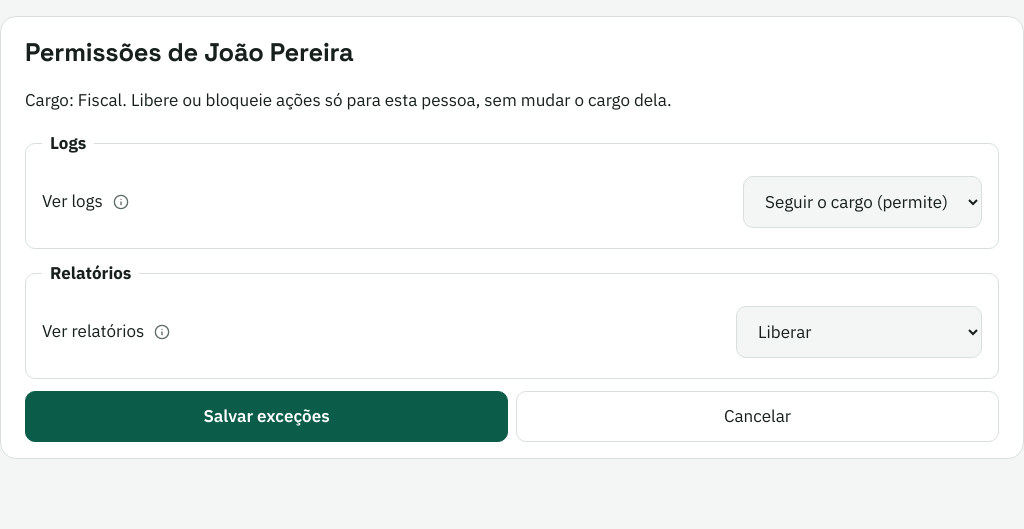
Test: OverridesEditor › mostra o erro de salvar quando falha com uma Error
This screenshot has width=1024, height=529.
Step 1. Click the button "Salvar exceções" → click(266, 416), box [25,391,508,442]
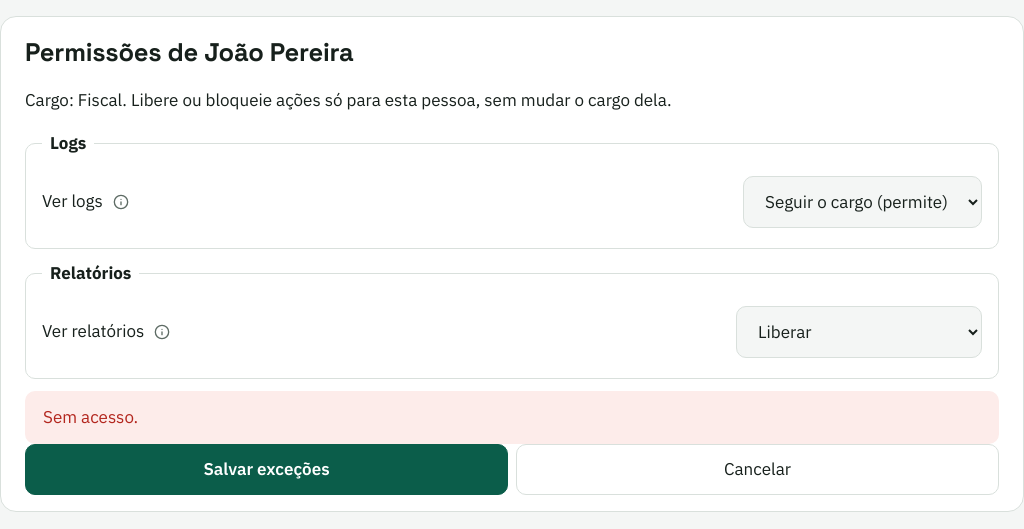
Expected: the button "Salvar exceções" is enabled, [25,444,508,495]
Now the message reads "Sem acesso.", box [43,406,138,428]
